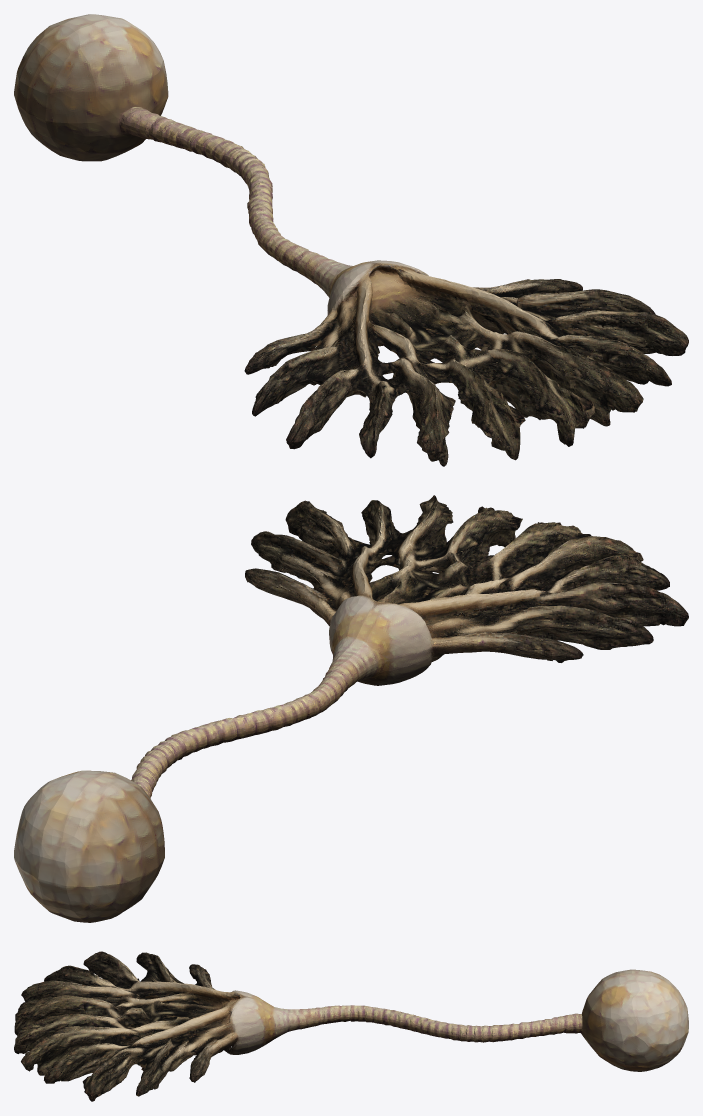
3 renders of one model, top to bottom at view 1: azimuth 30°, elevation 25°; view 2: azimuth 150°, elevation 25°; view 3: azimuth 270°, elevation 25°, orthographic. The views are drawn at different scales.
Parts seen in each view (by area): view 1: world; view 2: world; view 3: world.
Part boxes in pixels (box(x1,y1,x2,y2)): world: box(14, 14, 688, 466); world: box(14, 495, 688, 922); world: box(14, 951, 688, 1101).
Bounding box in the file's own units: 0.4738 × 0.1522 × 1.
1 material, 1 textured.
